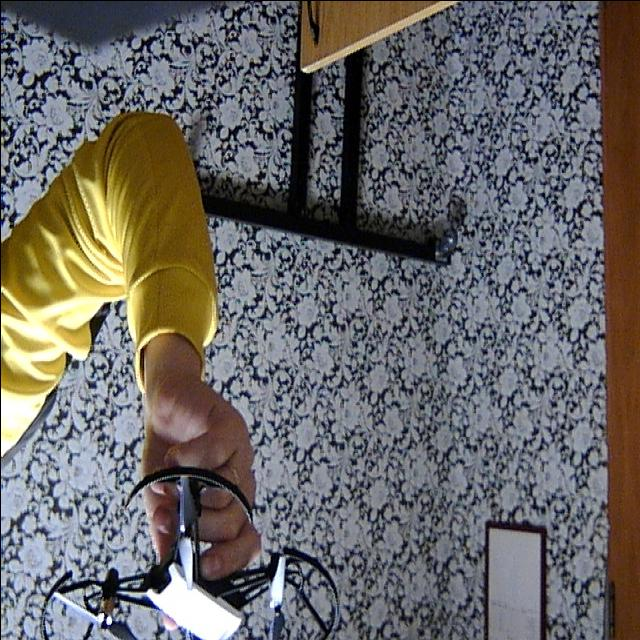drone: (22, 460, 353, 640)
